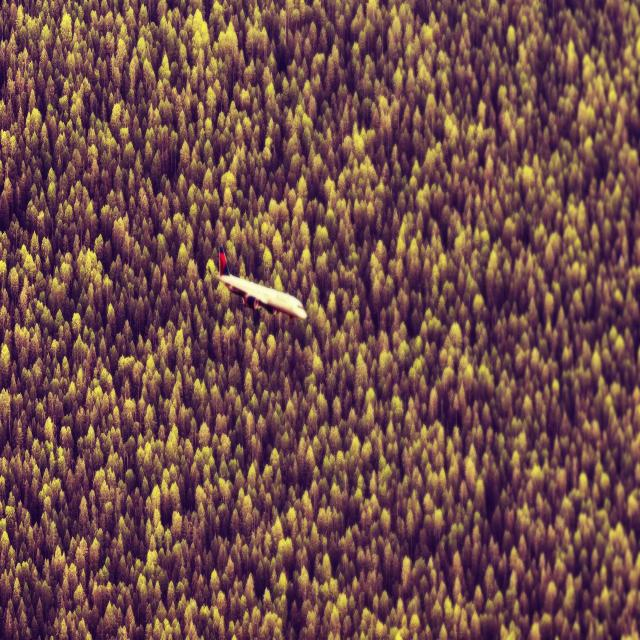airplane: (215, 246, 308, 321)
